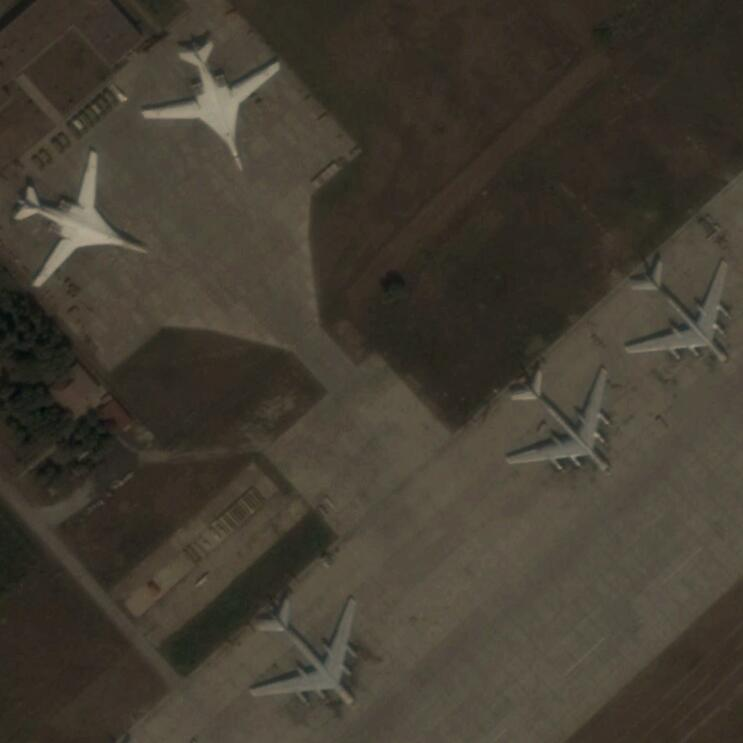A17: (247, 594, 367, 713), (502, 362, 615, 481), (622, 257, 735, 367)
A6: (139, 39, 282, 175), (15, 152, 151, 290)
